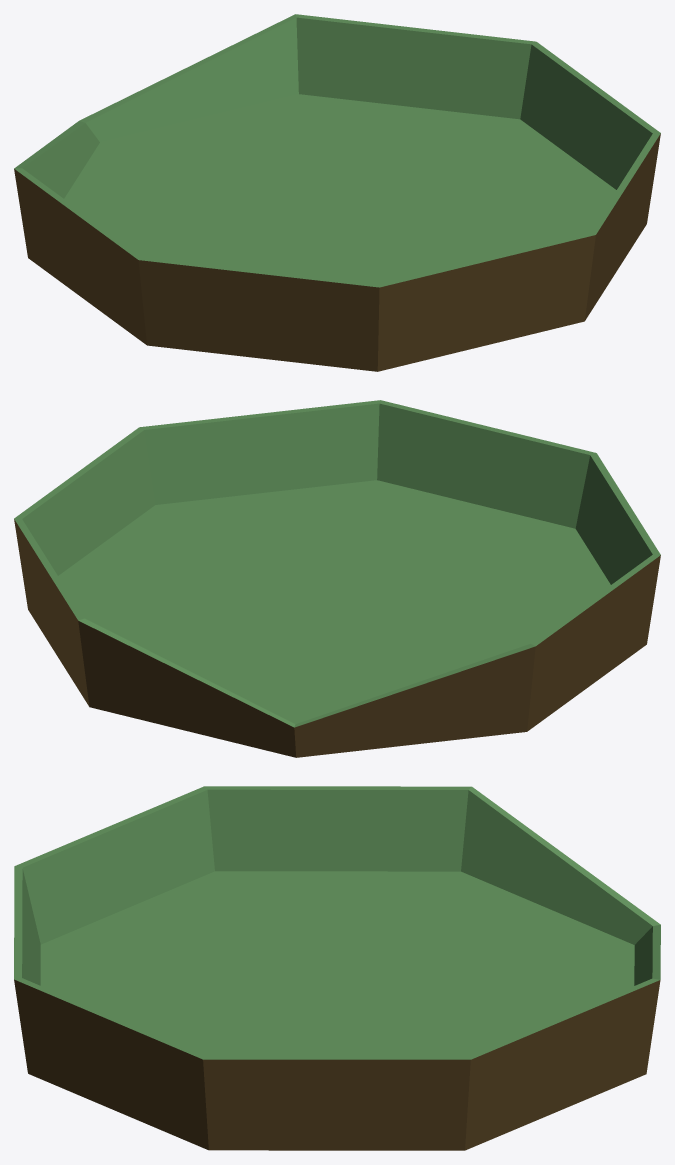
The model's file is vitoria_regia3.fbx.
The picture shows the model from 3 angles, top to bottom: view 1: azimuth 30°, elevation 25°; view 2: azimuth 150°, elevation 25°; view 3: azimuth 270°, elevation 25°; orthographic projection. The views are drawn at different scales.
Parts seen in each view (by area): view 1: vit3; view 2: vit3; view 3: vit3.
Boxes of the visible parts, box(x1,y1,x2,y2) form: vit3: box(14, 14, 660, 371); vit3: box(14, 400, 660, 757); vit3: box(14, 786, 660, 1150).
Size of the model in its own units: 3.14 by 0.5182 by 3.14.
